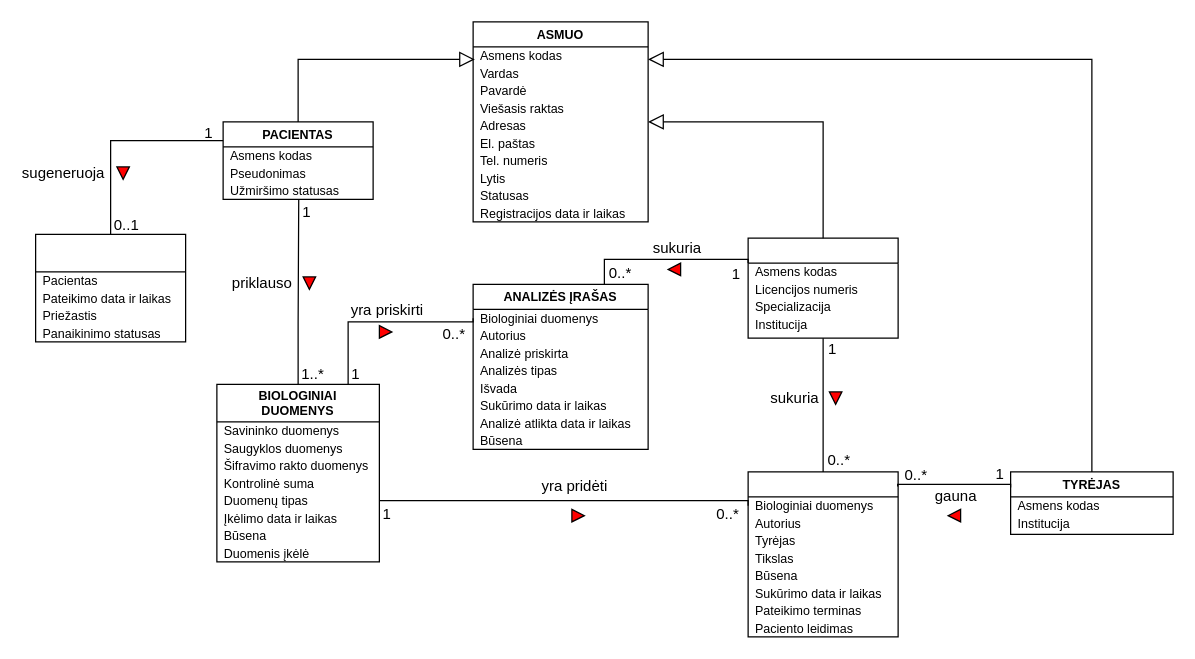
The diagram is 1195 pixels wide and 659 high, and some of its shapes have lost their labels. Here are the shapes that lost their labels. From the top down, the box of each, then its label:
(34, 233, 186, 342): BŪTI PAMIRŠTAM PRAŠYMAS
(747, 237, 898, 338): GYDYTOJAS
(747, 471, 898, 637): ANALIZĖS UŽKLAUSA
